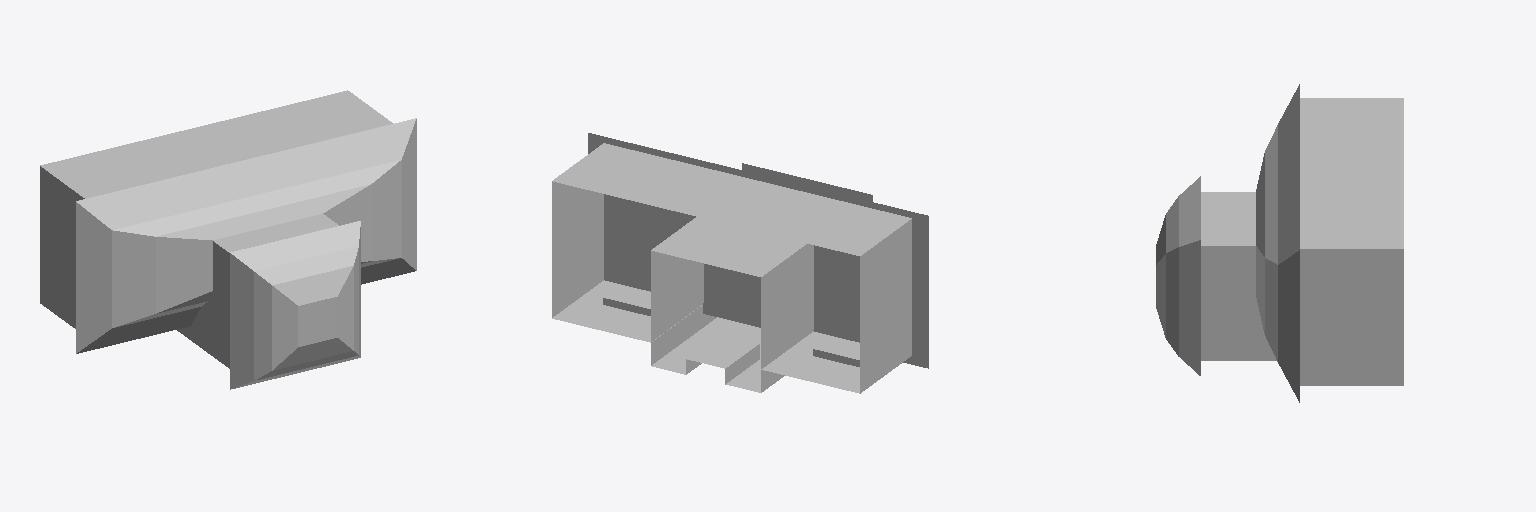
The model's file is village_town_hall.obj.
The picture shows the model from 3 angles: view 1: azimuth 30°, elevation 25°; view 2: azimuth 150°, elevation 25°; view 3: azimuth 270°, elevation 25°; orthographic projection.
Visible parts, largest first — view 1: Plane.005; view 2: Plane.005; view 3: Plane.005.
Boxes of the visible parts, <box> form: Plane.005: <box>40,90,416,389</box>; Plane.005: <box>552,133,928,393</box>; Plane.005: <box>1156,84,1403,402</box>.
Bounding box in the file's own units: 5.2 × 2.59 × 3.28.